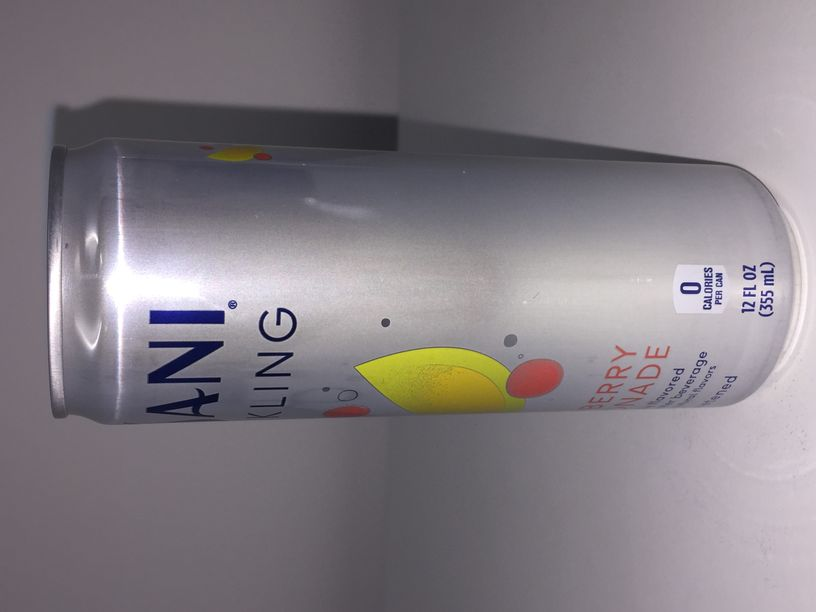lemonade: (44, 137, 795, 425)
